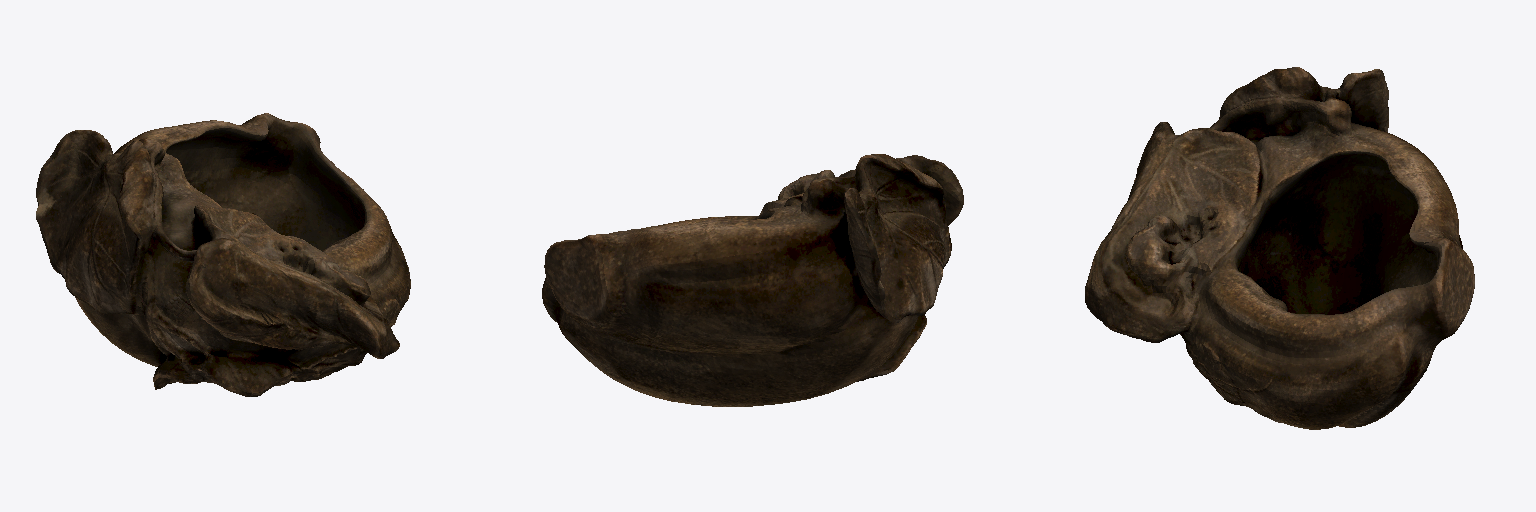
The picture shows the model from 3 angles: view 1: azimuth 30°, elevation 25°; view 2: azimuth 150°, elevation 25°; view 3: azimuth 270°, elevation 25°; orthographic projection.
Visible parts, largest first — view 1: SZB_zb_45_D; view 2: SZB_zb_45_D; view 3: SZB_zb_45_D.
Part boxes in pixels (x1,y1,x2,y2): SZB_zb_45_D: (36,113,410,396); SZB_zb_45_D: (542,154,963,406); SZB_zb_45_D: (1085,67,1474,429).
Bounding box in the file's own units: 0.093 × 0.0694 × 0.0912.
Materials: 1 (1 with a texture image).